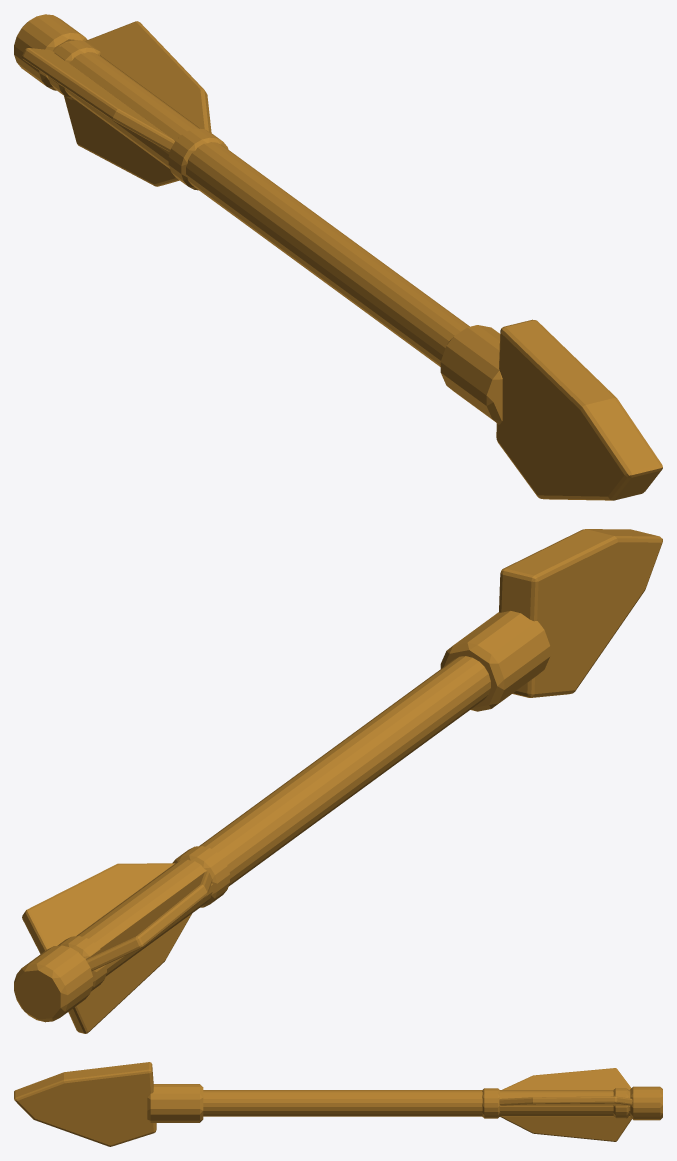
Rendered from AuxiliaStoneCrossbowBolt.fbx.
3 renders of one model, top to bottom at view 1: azimuth 30°, elevation 25°; view 2: azimuth 150°, elevation 25°; view 3: azimuth 270°, elevation 25°, orthographic. The views are drawn at different scales.
Visible parts, largest first — view 1: AuxiliaStoneCrossbowBolt_GameExport; view 2: AuxiliaStoneCrossbowBolt_GameExport; view 3: AuxiliaStoneCrossbowBolt_GameExport.
Part boxes in pixels (x1,y1,x2,y2): AuxiliaStoneCrossbowBolt_GameExport: [14, 14, 662, 500]; AuxiliaStoneCrossbowBolt_GameExport: [14, 529, 662, 1033]; AuxiliaStoneCrossbowBolt_GameExport: [14, 1062, 662, 1146].
Size of the model in its own units: 3.2 by 27.95 by 3.66.
